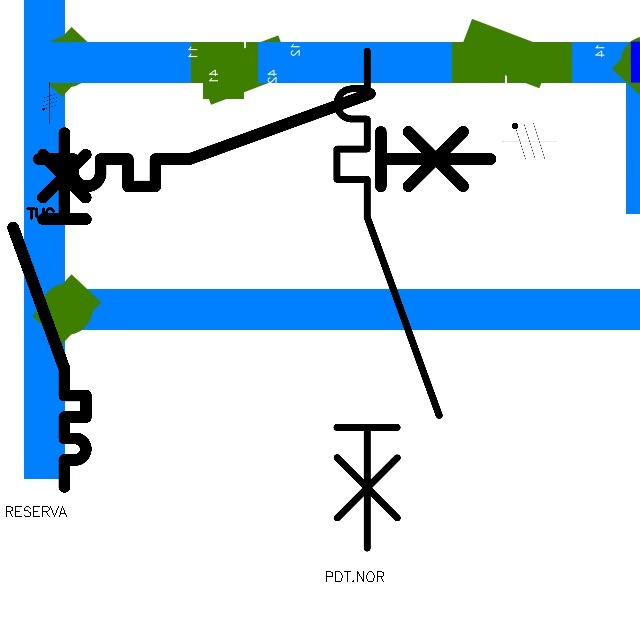interruptor_termomagnetico: (324, 38, 452, 560), (27, 82, 502, 198), (4, 124, 95, 495)
